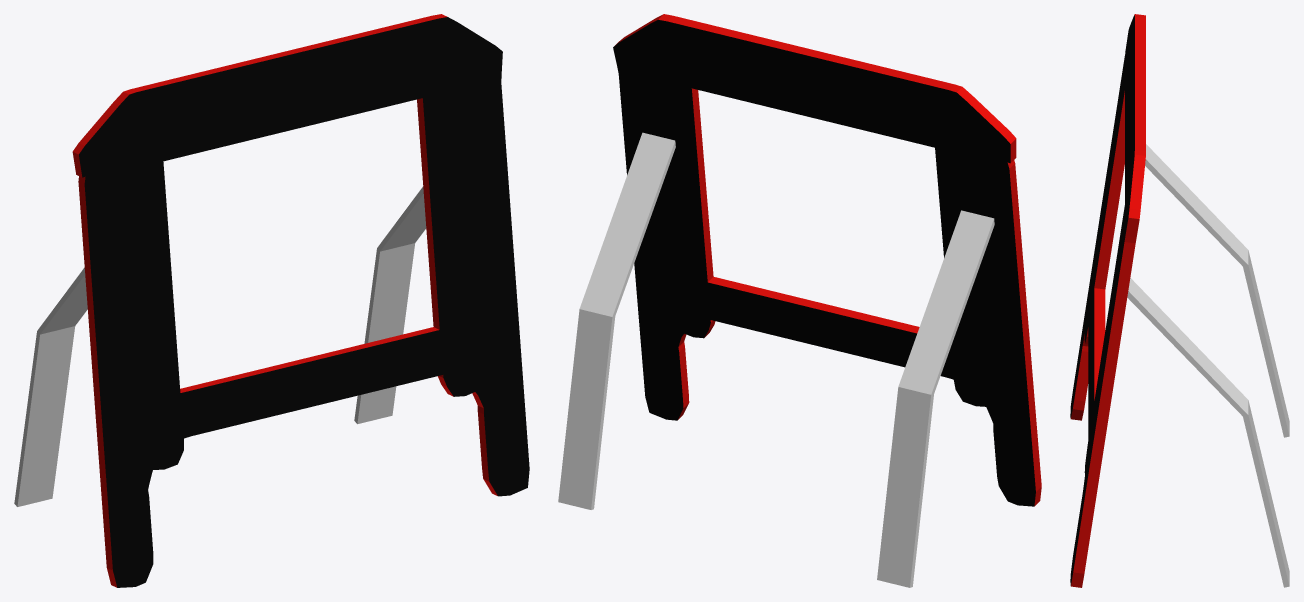
Rendered from long table cardboard.fbx.
The picture shows the model from 3 angles, left to right: view 1: azimuth 30°, elevation 25°; view 2: azimuth 150°, elevation 25°; view 3: azimuth 270°, elevation 25°; orthographic projection. The views are drawn at different scales.
Parts seen in each view (by area): view 1: path1, Plane, Plane.001; view 2: path1, Plane, Plane.001; view 3: path1, Plane.001, Plane.
Part boxes in pixels (box(x1,y1,x2,y2)): path1: box(72, 14, 529, 587); Plane: box(14, 267, 87, 506); Plane.001: box(354, 186, 426, 424); path1: box(613, 14, 1041, 506); Plane: box(877, 210, 994, 587); Plane.001: box(558, 132, 675, 509); path1: box(1070, 14, 1145, 587); Plane.001: box(1127, 278, 1289, 587); Plane: box(1145, 144, 1289, 437).
Size of the model in its own units: 1967 by 2067 by 974.
